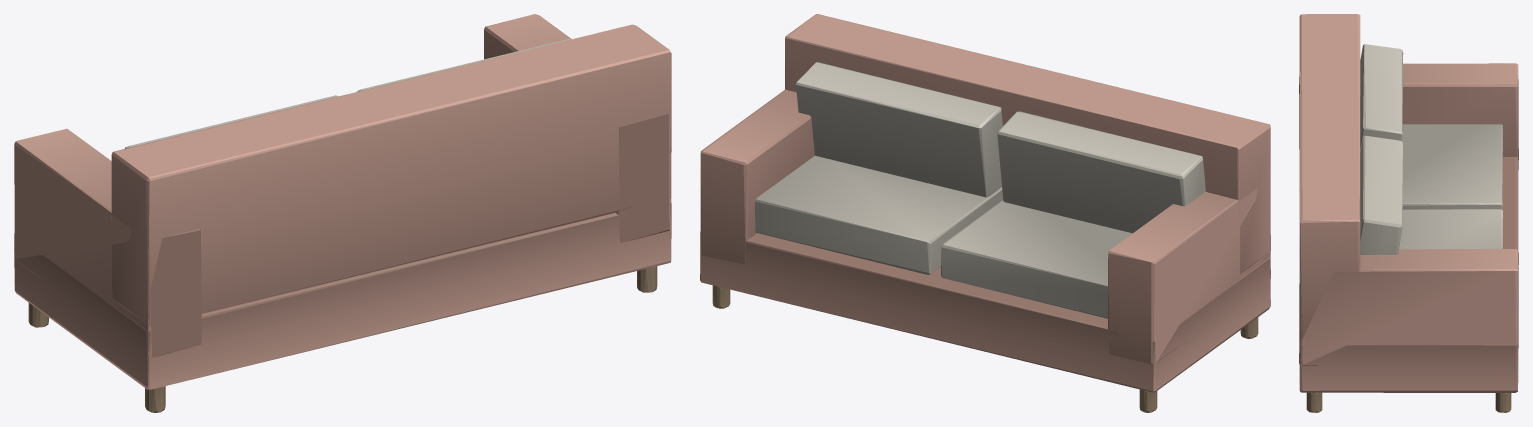
Rendered from furn_sofa__coral_low.glb.
The picture shows the model from 3 angles, left to right: view 1: azimuth 30°, elevation 25°; view 2: azimuth 150°, elevation 25°; view 3: azimuth 270°, elevation 25°; orthographic projection. The views are drawn at different scales.
Bounding box in the file's own units: 1.9 × 0.8385 × 0.85.
